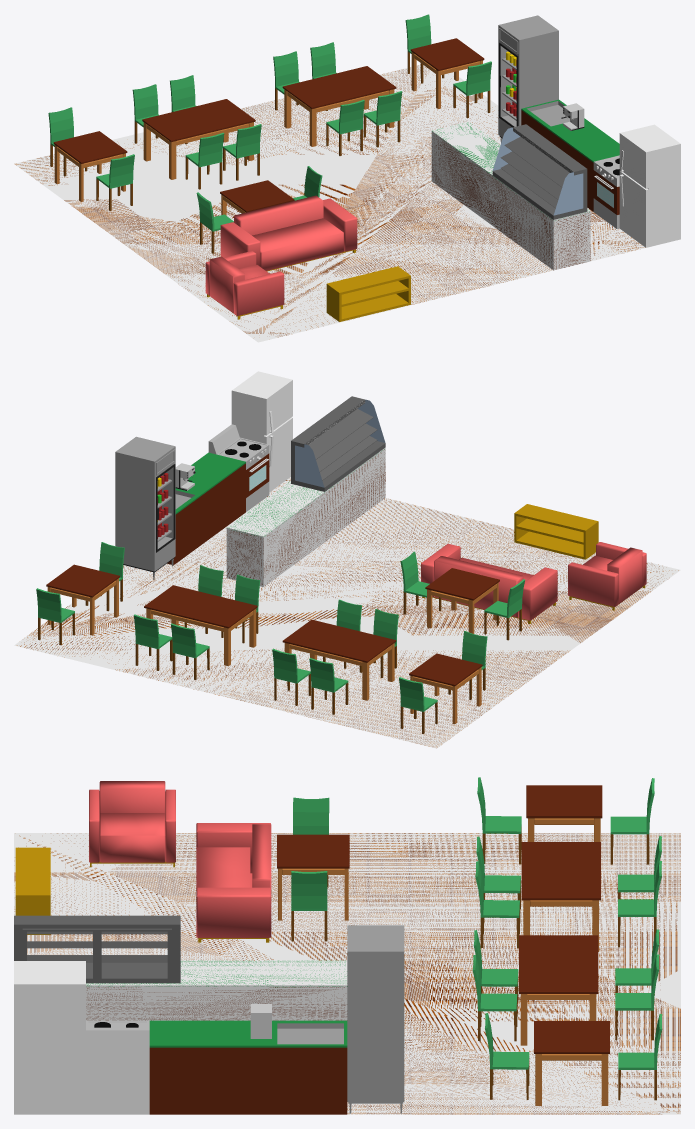
File: tree1.dae
3 views of the same model, one above another, from view 1: azimuth 30°, elevation 25°; view 2: azimuth 150°, elevation 25°; view 3: azimuth 270°, elevation 25° (orthographic). The views are drawn at different scales.
Visible parts, largest first — view 1: SketchUp (×6), Component_2 (×10), Component_3 (×8), Kitchen_Refrigerator_Simple, Structural_Concepts_-_Countertop_Non-Refrigerated_Bakery_Cas (×5), Display_fridge_30_in._x_27_in., Component_1 (×3), Group_12 (×4), Modern_couch_83_x_35, group_1 (×2), group_0 (×2), Stove_with_range_top; view 2: SketchUp (×5), Component_2 (×10), Component_3 (×9), Display_fridge_30_in._x_27_in., Structural_Concepts_-_Countertop_Non-Refrigerated_Bakery_Cas (×5), Kitchen_Refrigerator_Simple, Component_1 (×3), Group_12 (×4), group_0 (×2), group_1, Stove_with_range_top; view 3: SketchUp (×6), Component_2 (×10), Component_3 (×10), Kitchen_Refrigerator_Simple, Display_fridge_30_in._x_27_in., Structural_Concepts_-_Countertop_Non-Refrigerated_Bakery_Cas (×4), Modern_couch_83_x_35 (×2), Stove_with_range_top, group_0 (×2), Group_12 (×4), Component_1, group_1 (×2) (+1 smaller).
Boxes of the visible parts, bbox=[...] form: SketchUp (×6): bbox=[14, 64, 645, 342]; Component_2 (×10): bbox=[132, 42, 402, 167]; Component_3 (×8): bbox=[48, 14, 491, 231]; Kitchen_Refrigerator_Simple: bbox=[619, 124, 680, 247]; Structural_Concepts_-_Countertop_Non-Refrigerated_Bakery_Cas (×5): bbox=[492, 124, 587, 219]; Display_fridge_30_in._x_27_in.: bbox=[498, 15, 558, 137]; Component_1 (×3): bbox=[326, 266, 410, 321]; Group_12 (×4): bbox=[209, 195, 323, 312]; Modern_couch_83_x_35: bbox=[252, 218, 343, 270]; group_1 (×2): bbox=[220, 222, 284, 315]; group_0 (×2): bbox=[205, 198, 357, 295]; Stove_with_range_top: bbox=[593, 170, 619, 214]; SketchUp (×5): bbox=[14, 447, 680, 748]; Component_2 (×10): bbox=[133, 565, 398, 692]; Component_3 (×9): bbox=[36, 542, 525, 711]; Display_fridge_30_in._x_27_in.: bbox=[115, 436, 175, 571]; Structural_Concepts_-_Countertop_Non-Refrigerated_Bakery_Cas (×5): bbox=[291, 396, 385, 491]; Kitchen_Refrigerator_Simple: bbox=[231, 371, 292, 492]; Component_1 (×3): bbox=[514, 504, 598, 559]; Group_12 (×4): bbox=[434, 547, 642, 617]; group_0 (×2): bbox=[421, 543, 618, 606]; group_1: bbox=[518, 567, 557, 620]; Stove_with_range_top: bbox=[208, 424, 269, 469]; SketchUp (×6): bbox=[14, 833, 680, 1114]; Component_2 (×10): bbox=[472, 836, 661, 1011]; Component_3 (×10): bbox=[277, 777, 662, 1069]; Kitchen_Refrigerator_Simple: bbox=[14, 961, 85, 1114]; Display_fridge_30_in._x_27_in.: bbox=[347, 925, 404, 1103]; Structural_Concepts_-_Countertop_Non-Refrigerated_Bakery_Cas (×4): bbox=[14, 915, 180, 983]; Modern_couch_83_x_35 (×2): bbox=[99, 813, 252, 888]; Stove_with_range_top: bbox=[86, 1030, 149, 1114]; group_0 (×2): bbox=[165, 789, 271, 937]; Group_12 (×4): bbox=[99, 781, 271, 888]; Component_1: bbox=[15, 847, 50, 934]; group_1 (×2): bbox=[89, 789, 270, 873].
Size of the model in its own units: 315 by 315 by 85.28.
